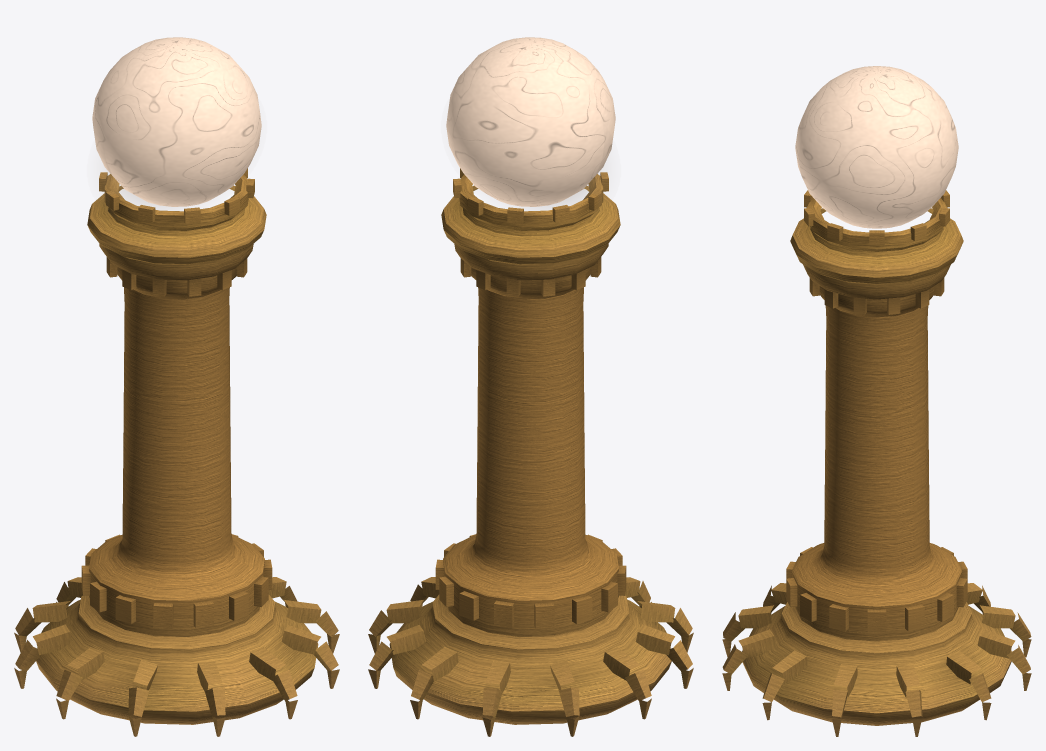
Rendered from mm7_deco_dec64.glb.
The picture shows the model from 3 angles, left to right: view 1: azimuth 30°, elevation 25°; view 2: azimuth 150°, elevation 25°; view 3: azimuth 270°, elevation 25°; orthographic projection. The views are drawn at different scales.
Visible parts, largest first — view 1: Pedestal; view 2: Pedestal; view 3: Pedestal.
Part boxes in pixels (x1=…): Pedestal: x1=14, y1=37, x2=339, y2=736; Pedestal: x1=368, y1=37, x2=693, y2=736; Pedestal: x1=722, y1=66, x2=1031, y2=736.
Size of the model in its own units: 1.13 by 2.46 by 1.13.
3 materials, 3 textured.
